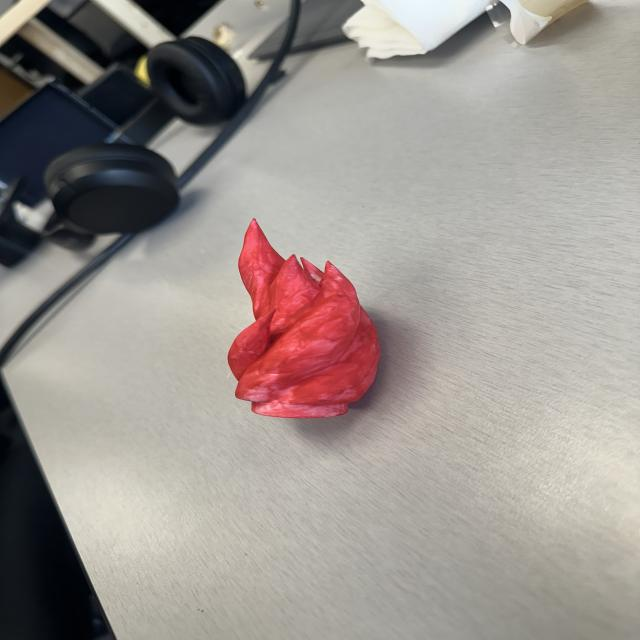fire: (226, 218, 384, 420)
